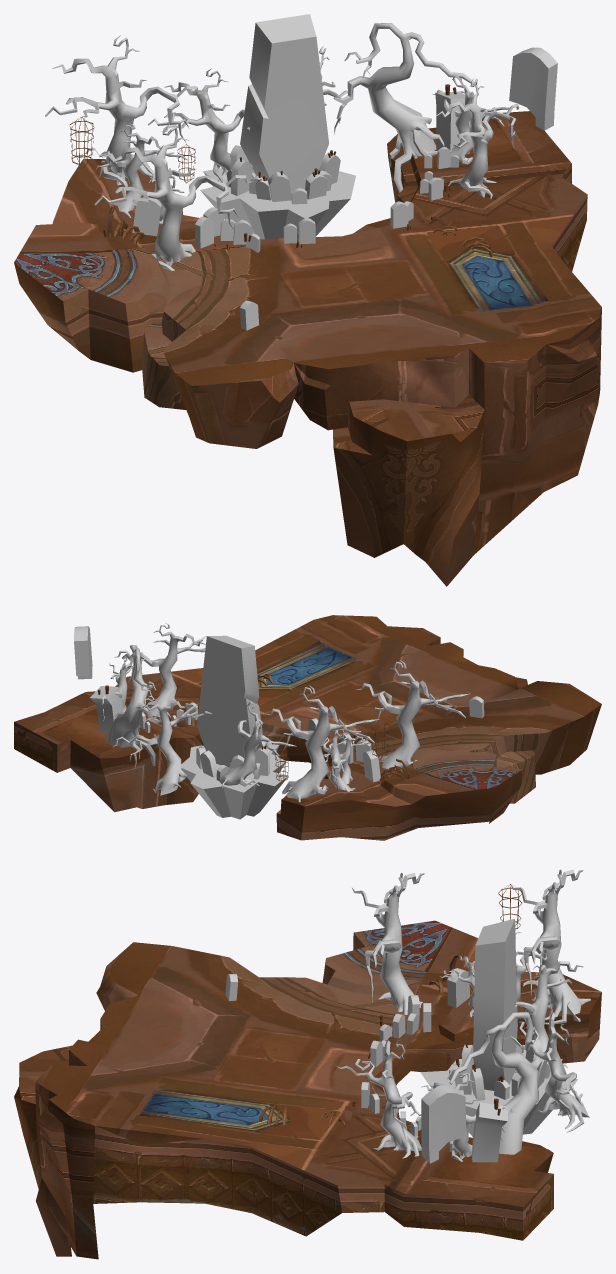
File: jifendixia_boss_04.FBX
The picture shows the model from 3 angles, top to bottom: view 1: azimuth 30°, elevation 25°; view 2: azimuth 150°, elevation 25°; view 3: azimuth 270°, elevation 25°; orthographic projection. The views are drawn at different scales.
Visible parts, largest first — view 1: jifendixia_boss_04a, jifendixia_boss_04b; view 2: jifendixia_boss_04a, jifendixia_boss_04b; view 3: jifendixia_boss_04a, jifendixia_boss_04b.
Part boxes in pixels (bbox=[...]): jifendixia_boss_04a: bbox=[14, 84, 601, 586]; jifendixia_boss_04b: bbox=[45, 14, 557, 330]; jifendixia_boss_04a: bbox=[14, 615, 601, 840]; jifendixia_boss_04b: bbox=[74, 623, 484, 819]; jifendixia_boss_04a: bbox=[14, 884, 601, 1259]; jifendixia_boss_04b: bbox=[225, 869, 590, 1163].
Size of the model in its own units: 3654 by 2305 by 3406.
